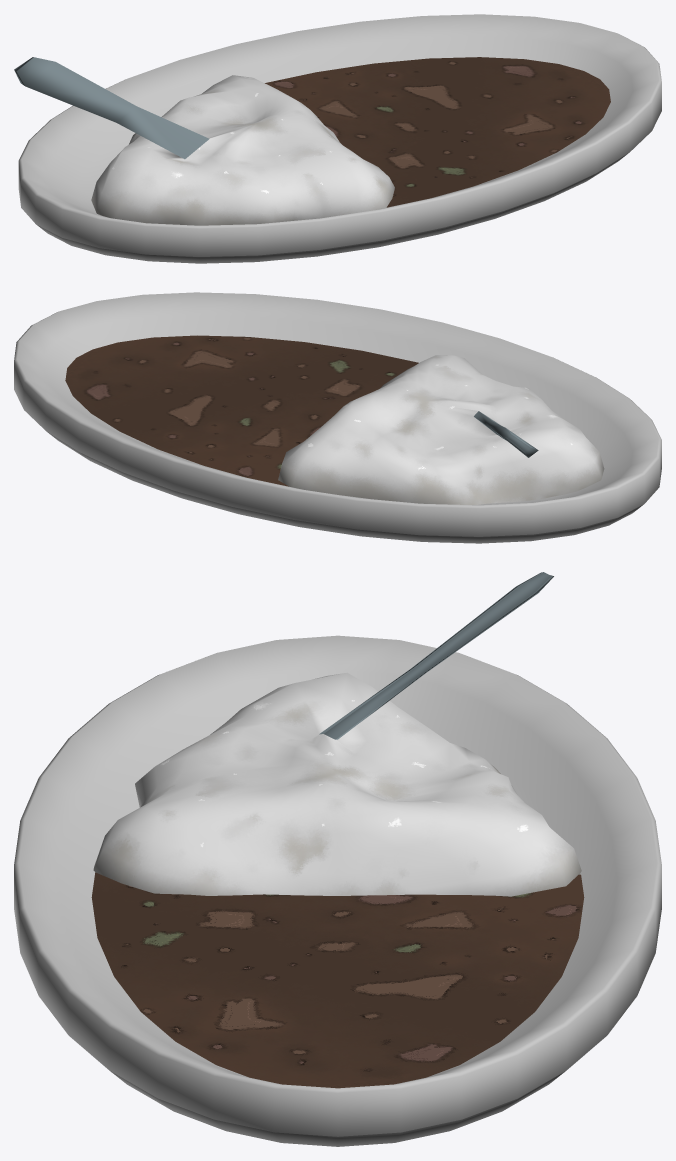
Rendered from Curry.fbx.
The picture shows the model from 3 angles, top to bottom: view 1: azimuth 30°, elevation 25°; view 2: azimuth 150°, elevation 25°; view 3: azimuth 270°, elevation 25°; orthographic projection. The views are drawn at different scales.
Visible parts, largest first — view 1: Sphere; view 2: Sphere; view 3: Sphere.
Part boxes in pixels (x1,y1,x2,y2): Sphere: (14,14,661,263); Sphere: (14,292,661,543); Sphere: (14,572,661,1146).
Size of the model in its own units: 737 by 442 by 132.
